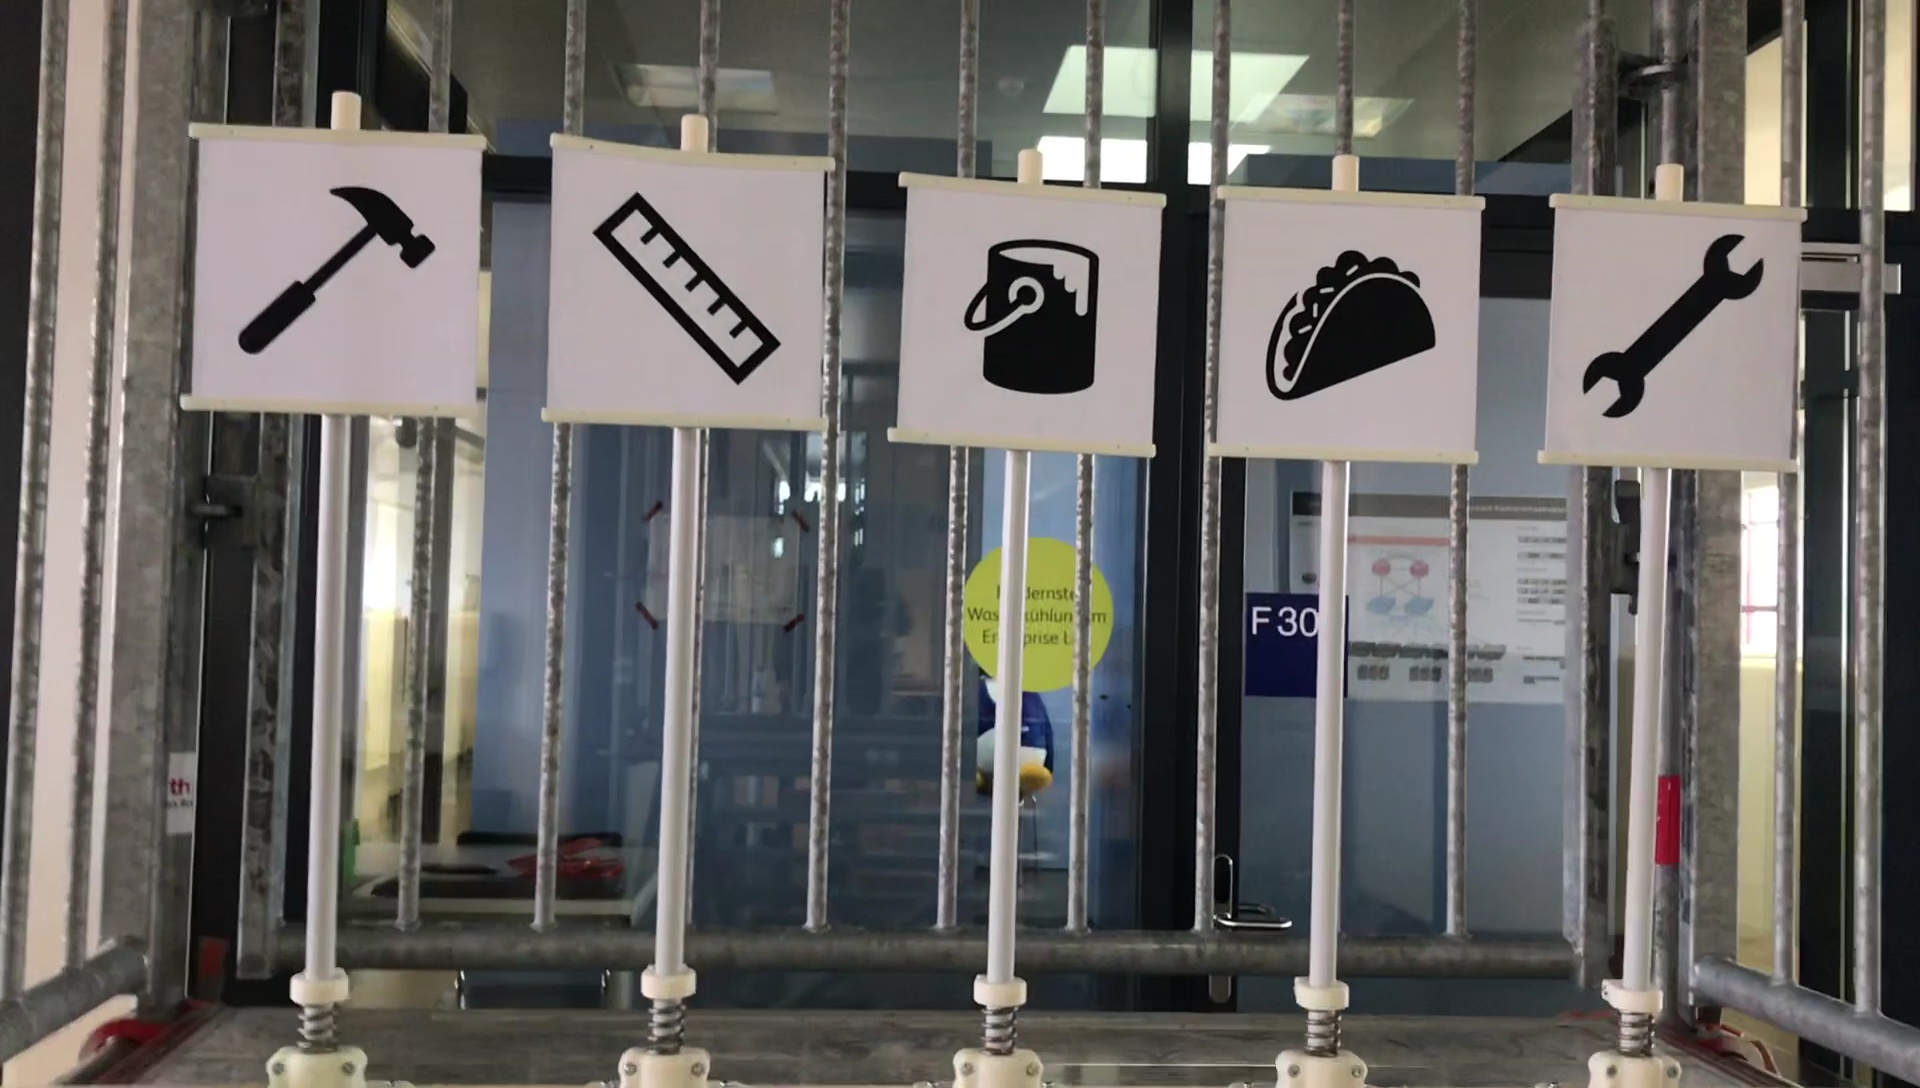bucket: (960, 236, 1112, 400)
hammer: (229, 166, 438, 353)
ruler: (585, 181, 790, 384)
taco: (1258, 243, 1439, 411)
wrench: (1577, 233, 1767, 419)
